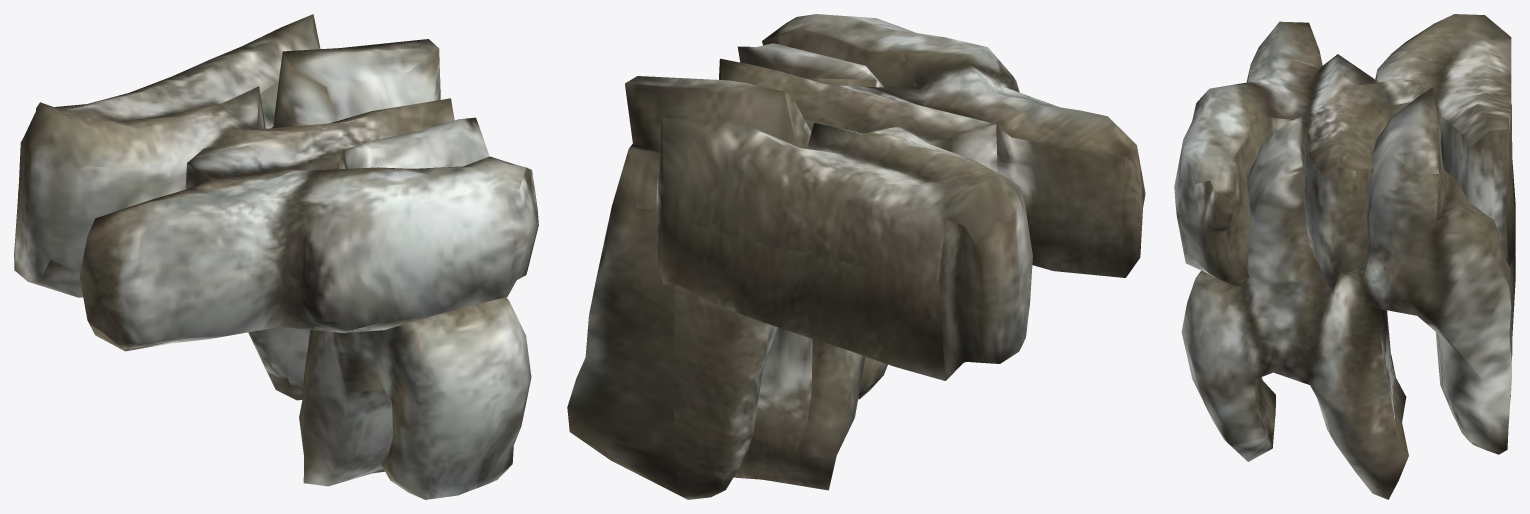
Rendered from military_sandbag_snow_cornersection.glb.
3 views of the same model, side by side, from view 1: azimuth 30°, elevation 25°; view 2: azimuth 150°, elevation 25°; view 3: azimuth 270°, elevation 25° (orthographic). The views are drawn at different scales.
Size of the model in its own units: 43.11 by 38.84 by 33.14.
1 material, 1 textured.
